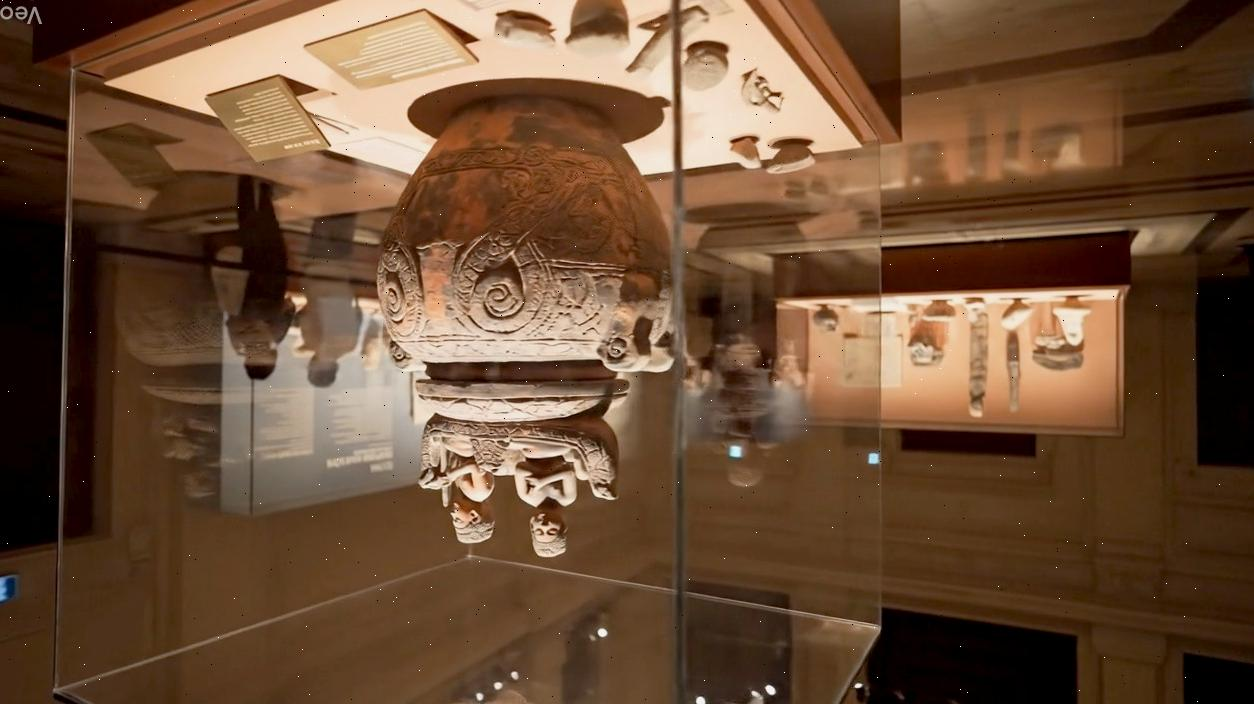manunggul_jar: (354, 84, 681, 591)
